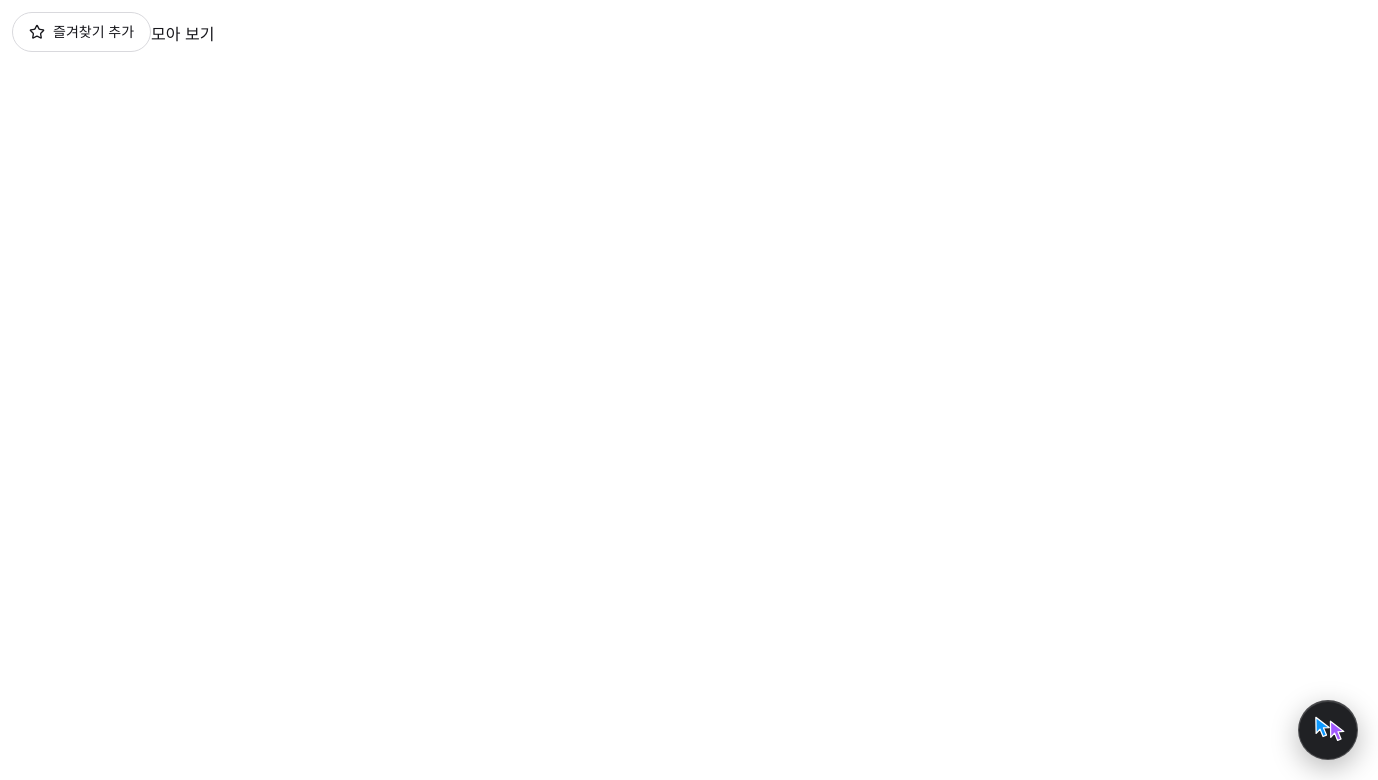
it: saves guest favorites across reloads and removes them from the separate list
Later steps or results of the test are not shown.
Click the button with aria-label "사고외주 즐겨찾기 추가". click: (82, 32)
box: [12,12,151,52]
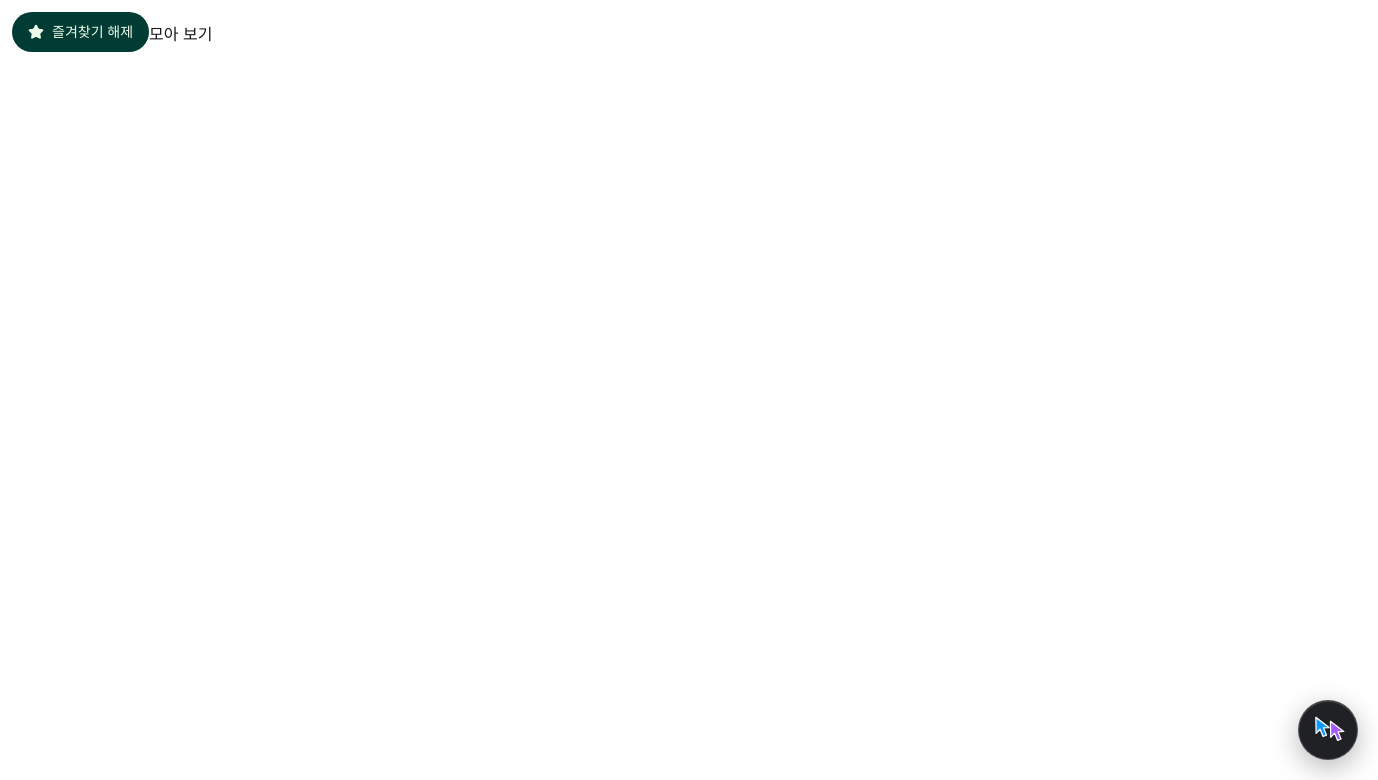
Check: the button with aria-label "사고외주 즐겨찾기 해제" is shown, box [12,12,149,52]
